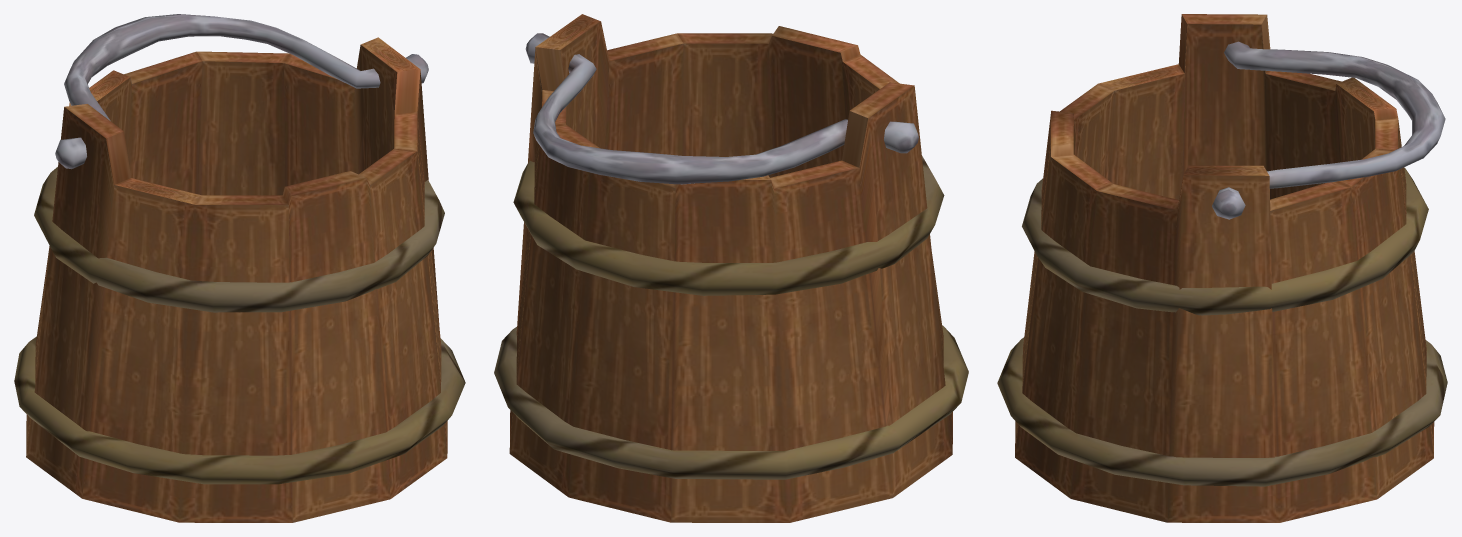
The model's file is Bucket_Wooden_2.gltf.
3 views of the same model, side by side, from view 1: azimuth 30°, elevation 25°; view 2: azimuth 150°, elevation 25°; view 3: azimuth 270°, elevation 25° (orthographic). The views are drawn at different scales.
Parts seen in each view (by area): view 1: Bucket_Wooden_2; view 2: Bucket_Wooden_2; view 3: Bucket_Wooden_2.
Boxes of the visible parts, bbox=[...] form: Bucket_Wooden_2: bbox=[14, 14, 465, 522]; Bucket_Wooden_2: bbox=[494, 14, 968, 522]; Bucket_Wooden_2: bbox=[997, 14, 1447, 522].
Bounding box in the file's own units: 0.4614 × 0.3945 × 0.465.
2 materials, 2 textured.
